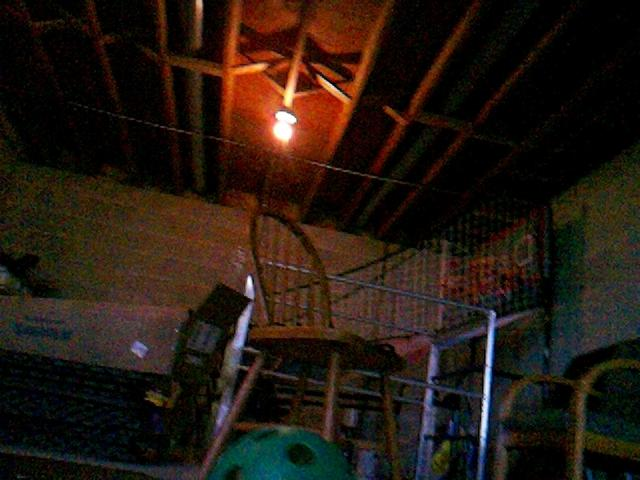Green: (203, 423, 360, 480)
